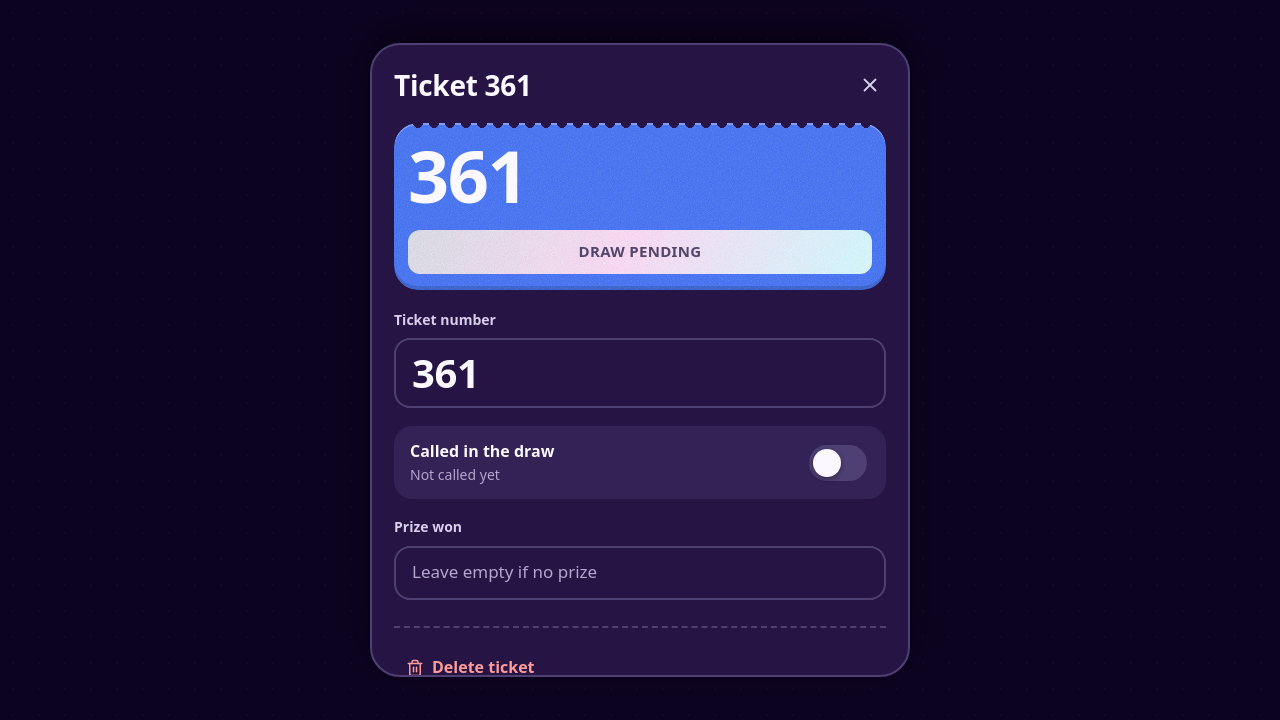
TicketSheet › restores the number when cleared
This screenshot has width=1280, height=720.
Clear the field labelled "Ticket number" at point(640, 373), box [394,338,886,408]
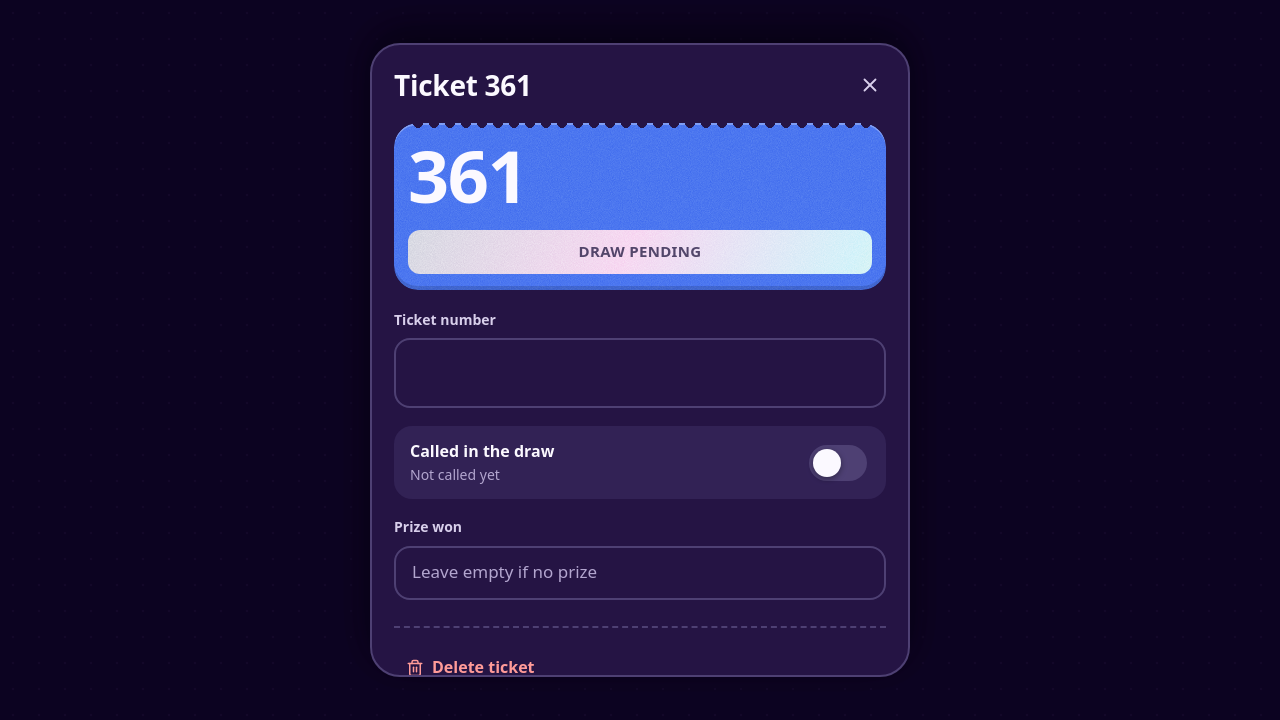
Leave the field labelled "Ticket number", box [394,338,886,408]
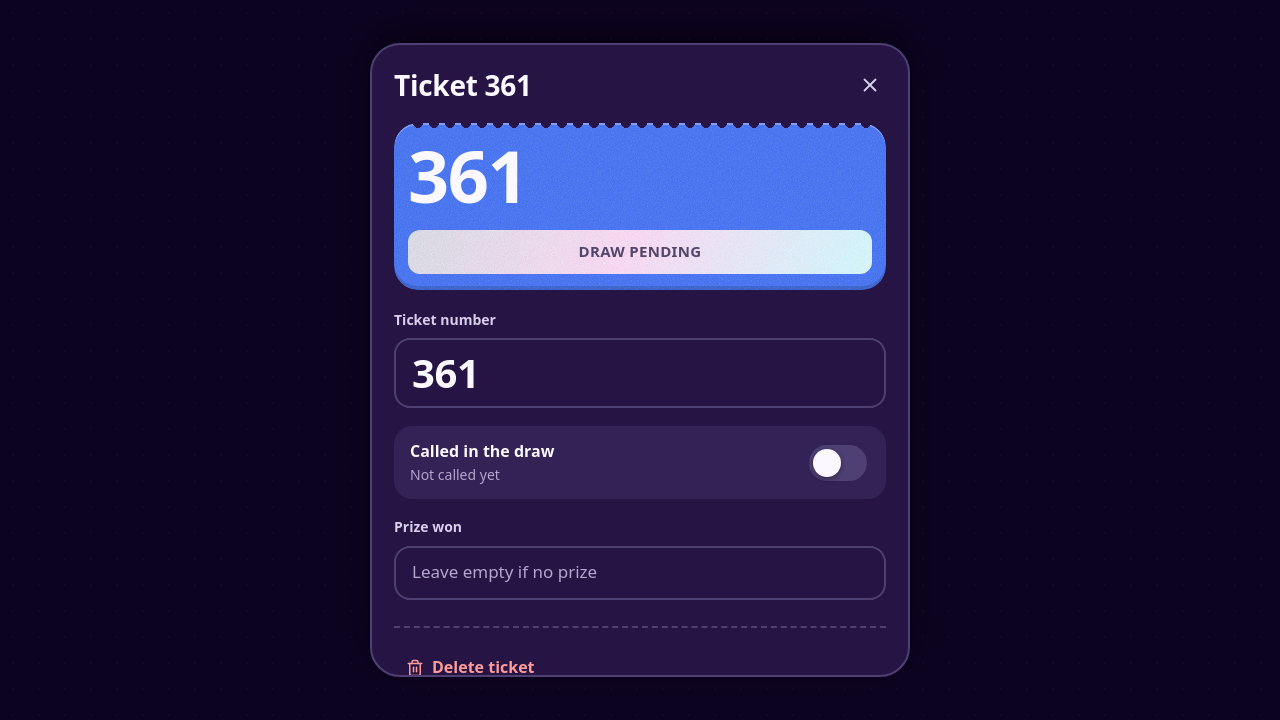
Expected: the field labelled "Ticket number" holds "361", [394,338,886,408]
